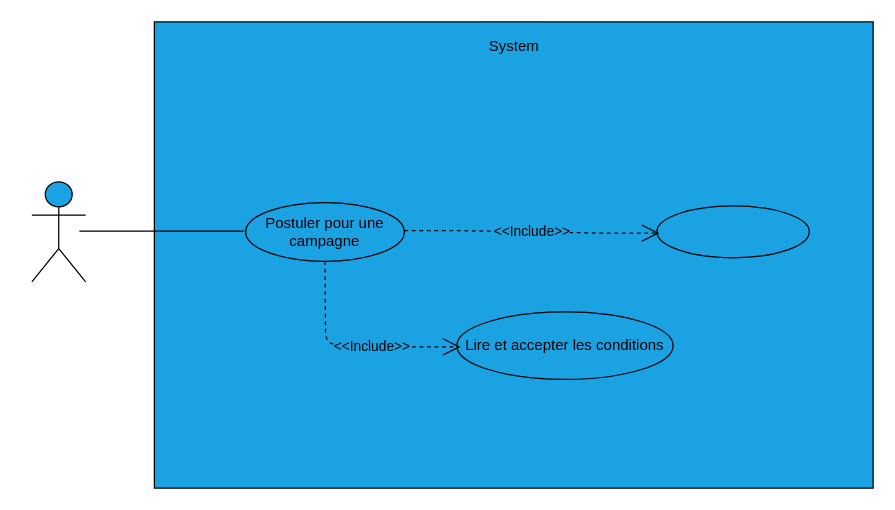
The diagram is 895 pixels wide and 510 high, and some of its shapes have lost their labels. Here are the shapes that lost their labels. From the top down, the centre of each, then its label:
the point at 58,231: Influenceur
the point at 732,231: S'authentifier
